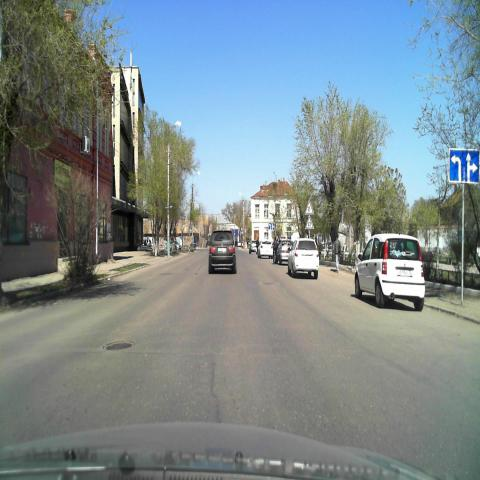1_20_3: (304, 199, 314, 213)
1_21: (304, 215, 314, 231)
